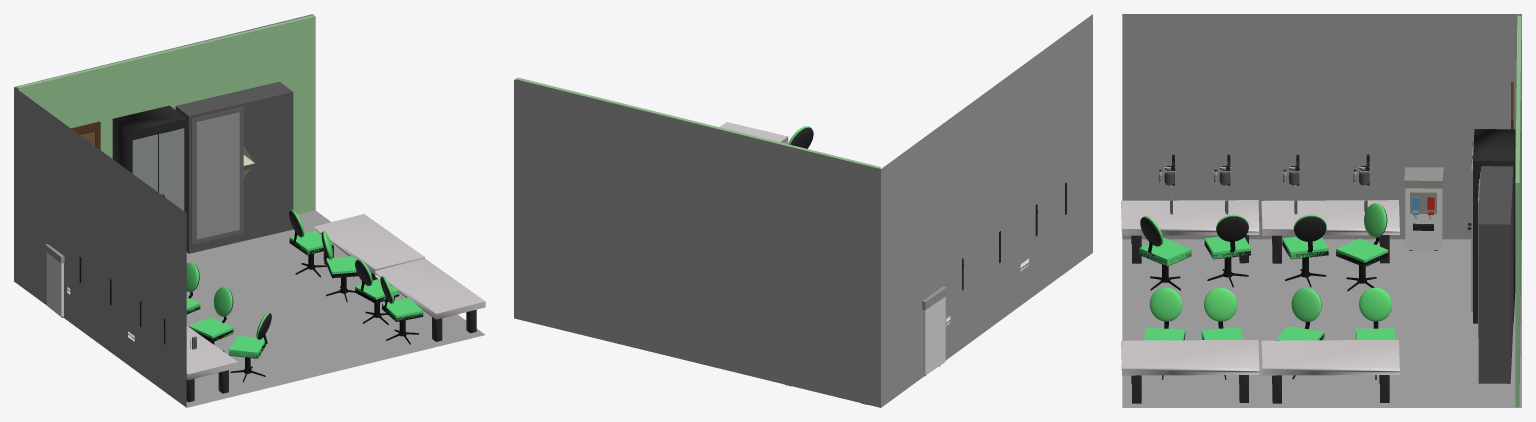
The picture shows the model from 3 angles, left to right: view 1: azimuth 30°, elevation 25°; view 2: azimuth 150°, elevation 25°; view 3: azimuth 270°, elevation 25°; orthographic projection. The views are drawn at different scales.
Visible parts, largest first — view 1: Plane, Kubus, Kubus.003, SABLON_Lemari, Kubus.002, SABLON_Kaki_Meja_Kecil.003, SABLON_Kaki_Meja_Kecil.005, SABLON_Kaki_Meja_Kecil.004, Kubus.001, Body Dispenser, Kubus.029, Kubus.038 (+5 smaller); view 2: Plane, Body Dispenser, Kubus, SABLON_Kaki_Meja_Kecil.003; view 3: Plane, Kubus.003, SABLON_Kaki_Meja_Kecil.003, SABLON_Kaki_Meja_Kecil.005, SABLON_Kaki_Meja_Kecil.004, SABLON_Kaki_Meja_Kecil.001, SABLON_Lemari, Kubus, Body Dispenser, Bola.006, Bola.008, Bola.005 (+15 smaller).
Part boxes in pixels (x1=…): Plane: x1=14, y1=14, x2=485, y2=407; Kubus: x1=16, y1=15, x2=315, y2=214; Kubus.003: x1=175, y1=81, x2=293, y2=253; SABLON_Lemari: x1=112, y1=105, x2=186, y2=212; Kubus.002: x1=196, y1=112, x2=239, y2=239; SABLON_Kaki_Meja_Kecil.003: x1=375, y1=258, x2=485, y2=341; SABLON_Kaki_Meja_Kecil.005: x1=314, y1=214, x2=424, y2=280; SABLON_Kaki_Meja_Kecil.004: x1=128, y1=326, x2=237, y2=402; Kubus.001: x1=191, y1=106, x2=243, y2=244; Body Dispenser: x1=46, y1=252, x2=63, y2=316; Kubus.029: x1=229, y1=336, x2=266, y2=358; Kubus.038: x1=382, y1=298, x2=423, y2=320; Plane: x1=514, y1=14, x2=1092, y2=407; Body Dispenser: x1=923, y1=296, x2=945, y2=375; Kubus: x1=515, y1=77, x2=880, y2=168; SABLON_Kaki_Meja_Kecil.003: x1=720, y1=122, x2=788, y2=143; Plane: x1=1122, y1=14, x2=1521, y2=407; Kubus.003: x1=1478, y1=166, x2=1513, y2=383; SABLON_Kaki_Meja_Kecil.003: x1=1121, y1=340, x2=1259, y2=403; SABLON_Kaki_Meja_Kecil.005: x1=1261, y1=340, x2=1399, y2=403; SABLON_Kaki_Meja_Kecil.004: x1=1121, y1=200, x2=1259, y2=263; SABLON_Kaki_Meja_Kecil.001: x1=1261, y1=200, x2=1399, y2=263; SABLON_Lemari: x1=1467, y1=129, x2=1515, y2=323; Kubus: x1=1515, y1=15, x2=1521, y2=407; Body Dispenser: x1=1405, y1=188, x2=1442, y2=250; Bola.006: x1=1204, y1=287, x2=1237, y2=321; Bola.008: x1=1359, y1=287, x2=1391, y2=321; Bola.005: x1=1149, y1=287, x2=1182, y2=321.
Size of the model in its own units: 4.01 by 2.51 by 3.97.
